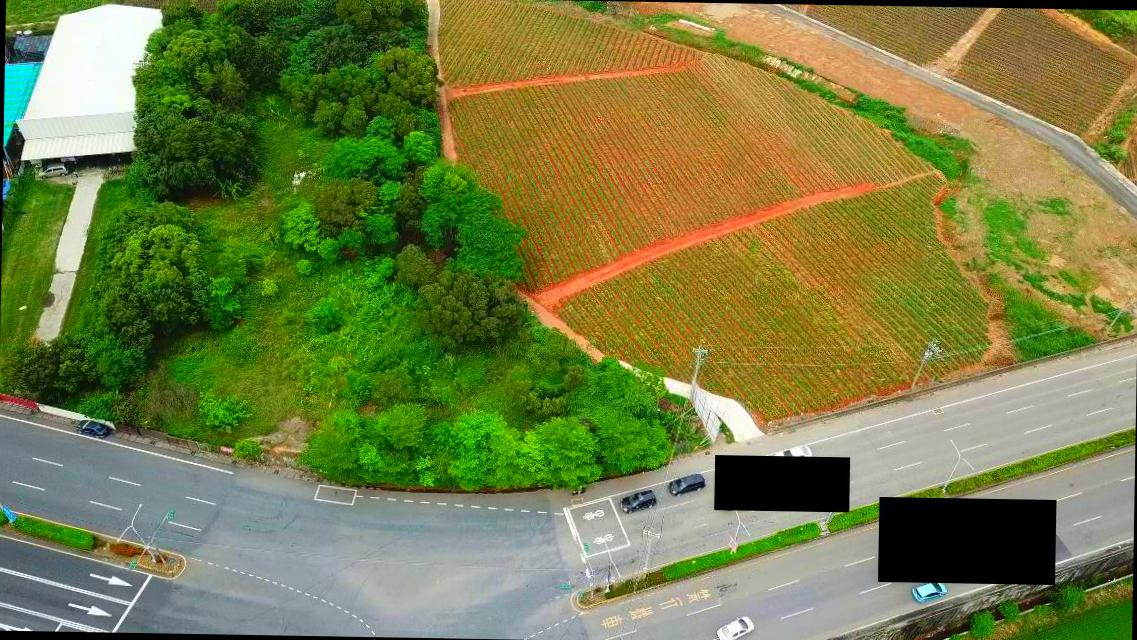vehicle: (715, 612, 757, 639), (620, 487, 658, 514), (774, 442, 812, 468), (669, 472, 706, 496), (910, 579, 946, 602), (36, 158, 70, 180), (720, 456, 756, 476), (74, 418, 108, 439)
